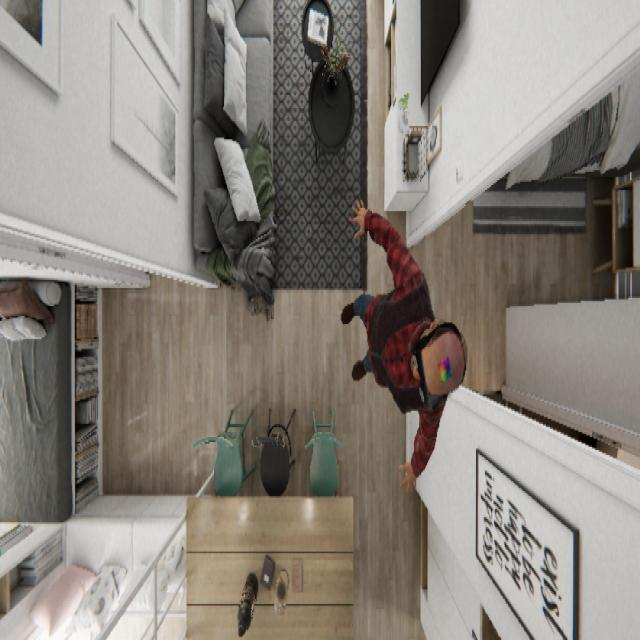Colored-Marker: (436, 352, 453, 385)
Human: (340, 195, 468, 494)
